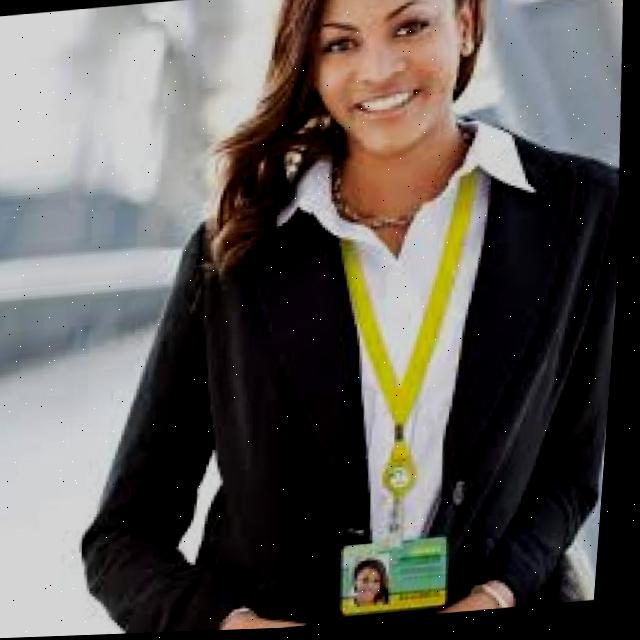id_card: (314, 205, 504, 619)
